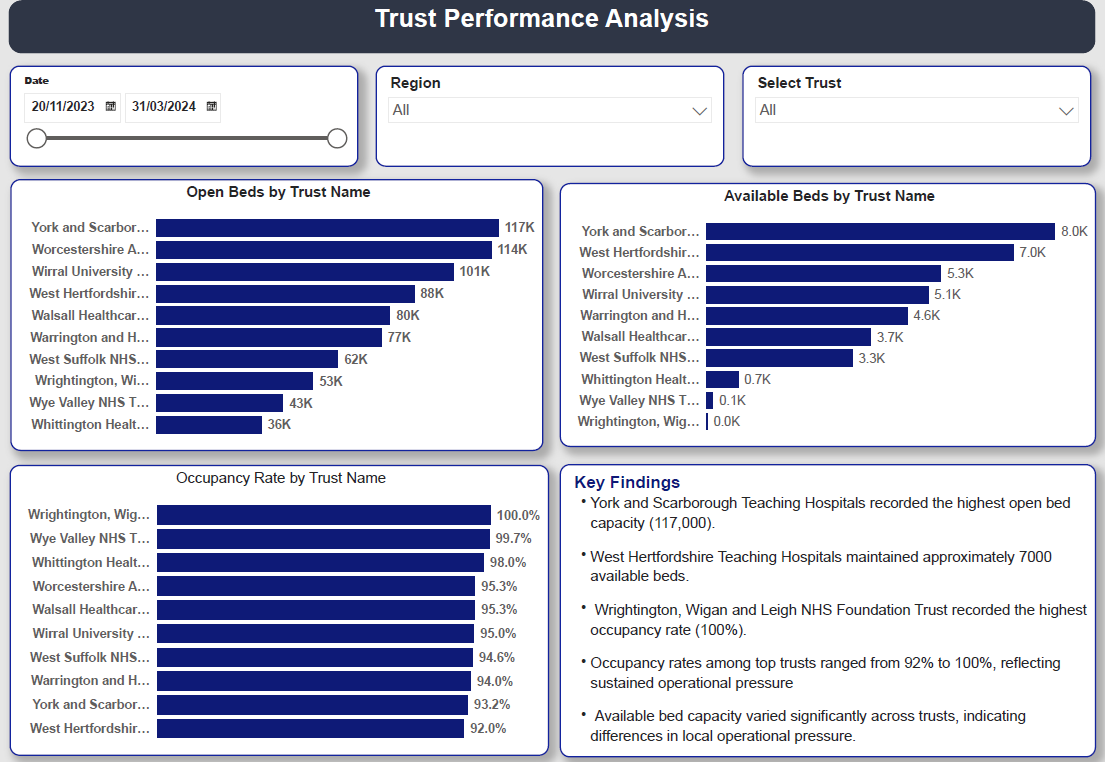

What the dashboard file says about the page in this screenshot:
{"tool":"powerbi","page":{"name":"Trust Analysis","canvas":[1400,980],"ordinal":1},"visuals":[{"type":"clusteredBarChart","fields":{"Category":["fct_Hospital_Beds.Trust Name"],"Y":["Calculated Measures.Open Beds"]},"box":[19.5,229.5,671.1,342.1],"z":0},{"type":"shape","box":[17.3,4.3,1368.3,67.1],"z":1000},{"type":"textbox","box":[88.6,4.4,1200.6,66.5],"z":2000},{"type":"slicer","fields":{"Values":["fct_Hospital_Beds.Date"]},"box":[17.7,85.7,440,128.5],"z":3000},{"type":"slicer","fields":{"Values":["fct_Hospital_Beds.Region"]},"box":[479.3,85.7,440,128.5],"z":4000},{"type":"slicer","fields":{"Values":["fct_Hospital_Beds.Trust Name"]},"box":[940.8,85.9,440,128],"z":5000},{"type":"clusteredBarChart","fields":{"Category":["fct_Hospital_Beds.Trust Name"],"Y":["Calculated Measures.Available Beds"]},"box":[711.1,234.3,675.6,332.3],"z":6000},{"type":"clusteredBarChart","fields":{"Category":["fct_Hospital_Beds.Trust Name"],"Y":["Calculated Measures.Occupancy Rate"]},"box":[17.7,588.7,680.1,367.7],"z":7000},{"type":"textbox","box":[711.1,587.6,675.6,369.9],"z":8000}]}

Visuals, with their boxes in screenshot pixels (x1, y1, x2, y2), scaled from the page's 1400x980 canvas onto the 1105x762 screenshot:
clusteredBarChart - fct_Hospital_Beds.Trust Name x Calculated Measures.Open Beds: bbox=[15, 178, 545, 444]
shape: bbox=[14, 3, 1094, 56]
textbox: bbox=[70, 3, 1018, 55]
slicer - fct_Hospital_Beds.Date: bbox=[14, 67, 361, 167]
slicer - fct_Hospital_Beds.Region: bbox=[378, 67, 726, 167]
slicer - fct_Hospital_Beds.Trust Name: bbox=[743, 67, 1090, 166]
clusteredBarChart - fct_Hospital_Beds.Trust Name x Calculated Measures.Available Beds: bbox=[561, 182, 1095, 441]
clusteredBarChart - fct_Hospital_Beds.Trust Name x Calculated Measures.Occupancy Rate: bbox=[14, 458, 551, 744]
textbox: bbox=[561, 457, 1095, 745]
